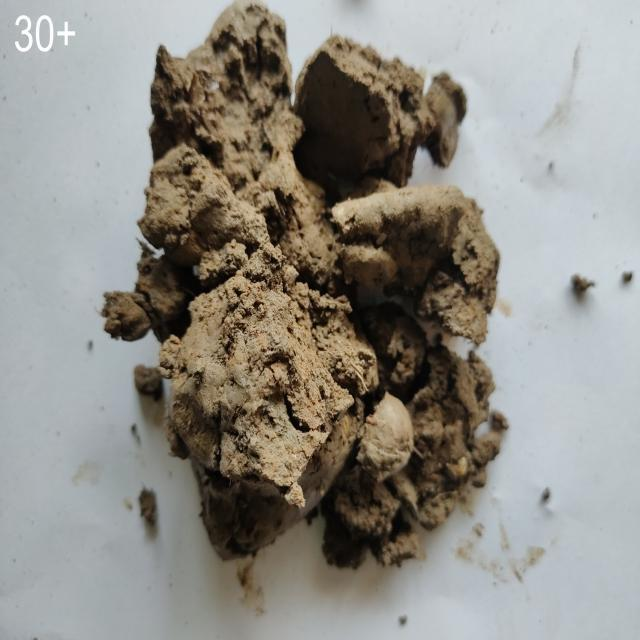soil: (205, 139, 388, 422)
